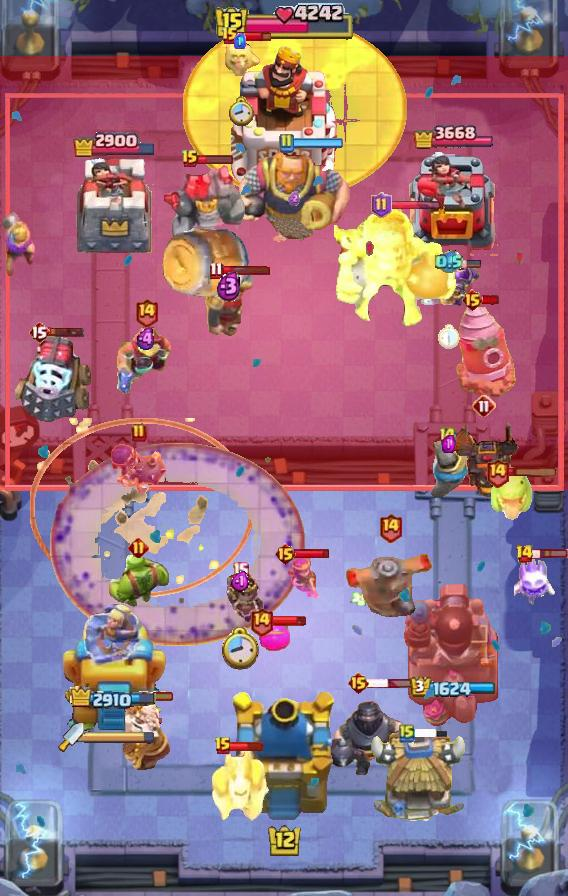archer-evolution: (447, 418, 521, 500)
bar: (59, 595, 169, 731)
bat-evolution: (218, 36, 262, 76)
bomb-tower: (0, 212, 40, 276)
bomber-evolution: (214, 570, 265, 624)
cannon: (284, 555, 322, 601)
cannoneer-tower: (161, 163, 247, 259)
clock: (213, 3, 355, 43)
dark-prince: (342, 535, 438, 625)
dirt: (160, 226, 252, 300)
electro-giant: (334, 206, 458, 330)
electro-spirit: (216, 270, 242, 302), (435, 250, 463, 274), (134, 327, 157, 351), (230, 572, 249, 593), (441, 435, 454, 453), (234, 33, 246, 49), (288, 190, 300, 205)
electro-wizard: (489, 470, 535, 522)
elixir: (221, 627, 259, 671), (226, 95, 253, 126), (438, 323, 461, 349)
elixir-collector: (119, 692, 173, 772)
elixir-golem-small: (209, 748, 269, 826)
emote: (389, 201, 441, 212), (507, 467, 559, 478), (367, 679, 419, 690), (221, 264, 271, 275), (292, 138, 343, 148), (236, 30, 272, 43), (47, 326, 84, 338), (532, 548, 568, 560), (271, 615, 307, 627), (139, 690, 175, 702), (413, 727, 449, 739), (198, 154, 235, 165), (294, 549, 331, 560), (230, 740, 264, 751), (446, 259, 482, 269), (482, 294, 501, 306)
fireball: (115, 327, 177, 397)
firecracker: (206, 276, 255, 336), (428, 441, 467, 499)
firecracker-evolution: (418, 260, 480, 307)
flying-machine: (106, 551, 170, 609)
giant-skeleton: (236, 145, 352, 245)
goblin-ball: (109, 442, 169, 498)
golem: (11, 333, 93, 425)
guard: (30, 418, 254, 597)
king-tower: (227, 692, 341, 826), (231, 43, 337, 181)
king-tower-bar: (84, 730, 156, 744)
magic-archer: (454, 302, 520, 400)
miner: (258, 621, 290, 651)
mirror: (514, 552, 558, 606)
phoenix-egg: (184, 21, 409, 199)
prince: (368, 730, 470, 826)
queen-tower: (408, 152, 498, 256), (74, 157, 154, 256)
rocket: (50, 442, 306, 646)
royal-guardian: (322, 688, 422, 778)
selected: (413, 123, 493, 154), (71, 130, 156, 157), (70, 686, 158, 712), (410, 676, 496, 698)
text: (133, 296, 158, 327), (486, 457, 511, 488), (378, 513, 403, 544), (250, 606, 275, 637), (472, 394, 496, 418), (461, 288, 484, 312), (274, 542, 297, 566), (347, 671, 370, 695), (371, 192, 392, 218), (28, 320, 50, 344), (128, 537, 149, 559), (438, 425, 458, 447), (514, 544, 533, 564), (221, 26, 239, 46), (181, 149, 199, 169), (214, 736, 232, 756), (231, 561, 248, 580), (278, 133, 294, 153), (131, 423, 147, 443), (399, 723, 415, 743), (209, 260, 224, 279)
tower-bar: (402, 579, 504, 731)
